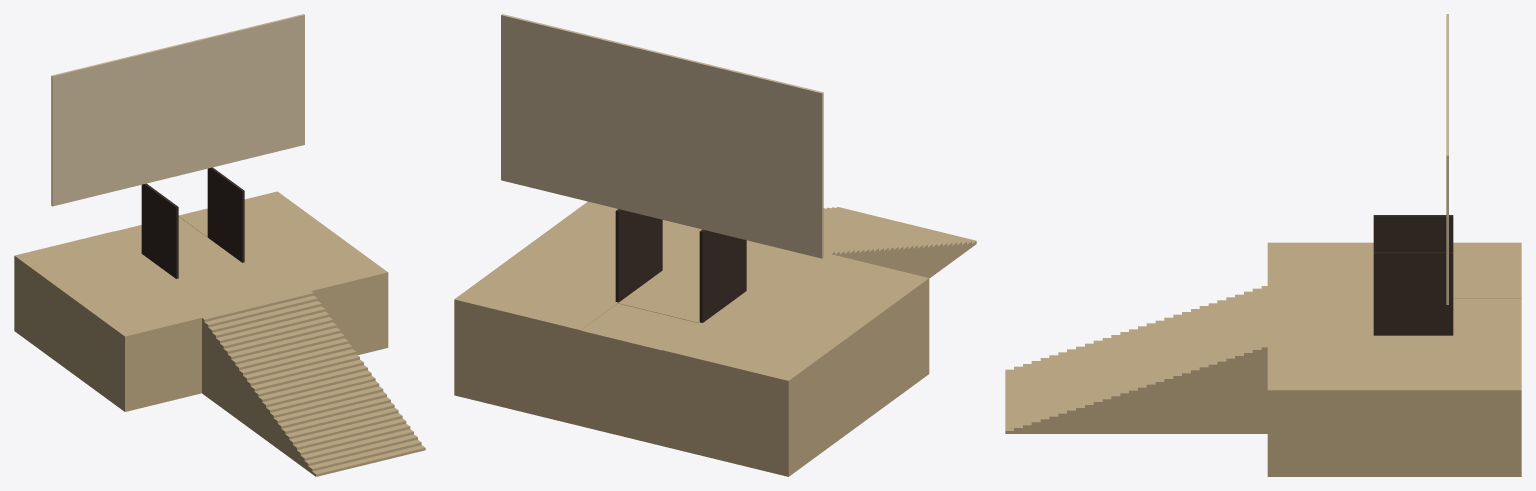
File: entry.glb
The picture shows the model from 3 angles, left to right: view 1: azimuth 30°, elevation 25°; view 2: azimuth 150°, elevation 25°; view 3: azimuth 270°, elevation 25°; orthographic projection. The views are drawn at different scales.
Parts seen in each view (by area): view 1: raised-plinth, tower-interior-screen-v007, central-ceremonial-stairs-v011, passage-floor-v007, passage-return-v007-1, passage-return-v007--1; view 2: raised-plinth, tower-interior-screen-v007, central-ceremonial-stairs-v011, passage-floor-v007, passage-return-v007-1, passage-return-v007--1; view 3: raised-plinth, central-ceremonial-stairs-v011, passage-return-v007-1, passage-floor-v007, passage-return-v007--1, tower-interior-screen-v007.
Part boxes in pixels (x1,y1,x2,y2): raised-plinth: [14, 191, 388, 411]; tower-interior-screen-v007: [51, 14, 304, 206]; central-ceremonial-stairs-v011: [202, 291, 425, 476]; passage-floor-v007: [178, 237, 280, 306]; passage-return-v007-1: [207, 167, 244, 262]; passage-return-v007--1: [141, 183, 178, 278]; raised-plinth: [454, 201, 929, 476]; tower-interior-screen-v007: [501, 14, 823, 258]; central-ceremonial-stairs-v011: [823, 207, 976, 278]; passage-floor-v007: [618, 242, 792, 323]; passage-return-v007-1: [615, 209, 662, 302]; passage-return-v007--1: [699, 229, 746, 322]; raised-plinth: [1267, 242, 1521, 476]; central-ceremonial-stairs-v011: [1005, 286, 1267, 433]; passage-return-v007-1: [1373, 252, 1453, 335]; passage-floor-v007: [1284, 298, 1454, 334]; passage-return-v007--1: [1373, 215, 1453, 252]; tower-interior-screen-v007: [1446, 14, 1448, 304].
Size of the model in its own units: 25 by 25.18 by 37.
